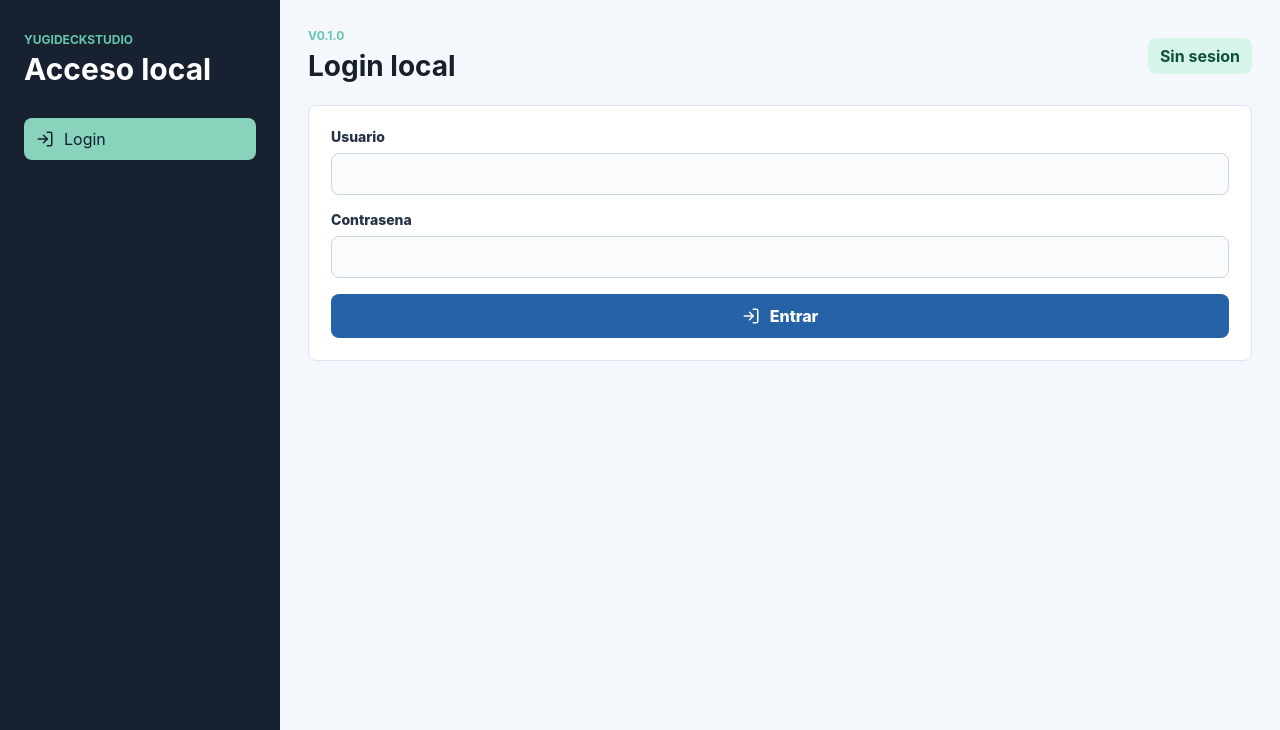
Test case: App › loads the security workspace after login
In the field labelled "Usuario": (780, 174) [331,153,1229,195], type "root"
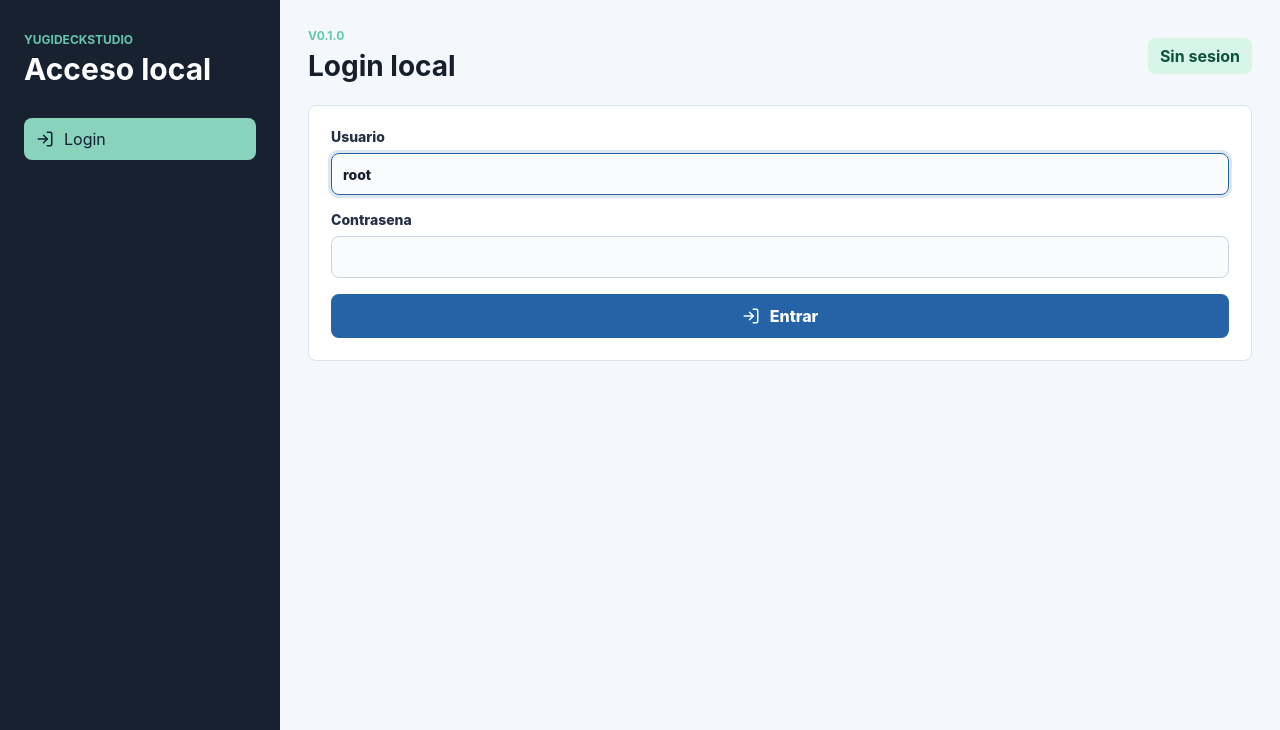
In the password field labelled "Contrasena": (780, 257) [331,236,1229,278], type "ChangedPassword123!"
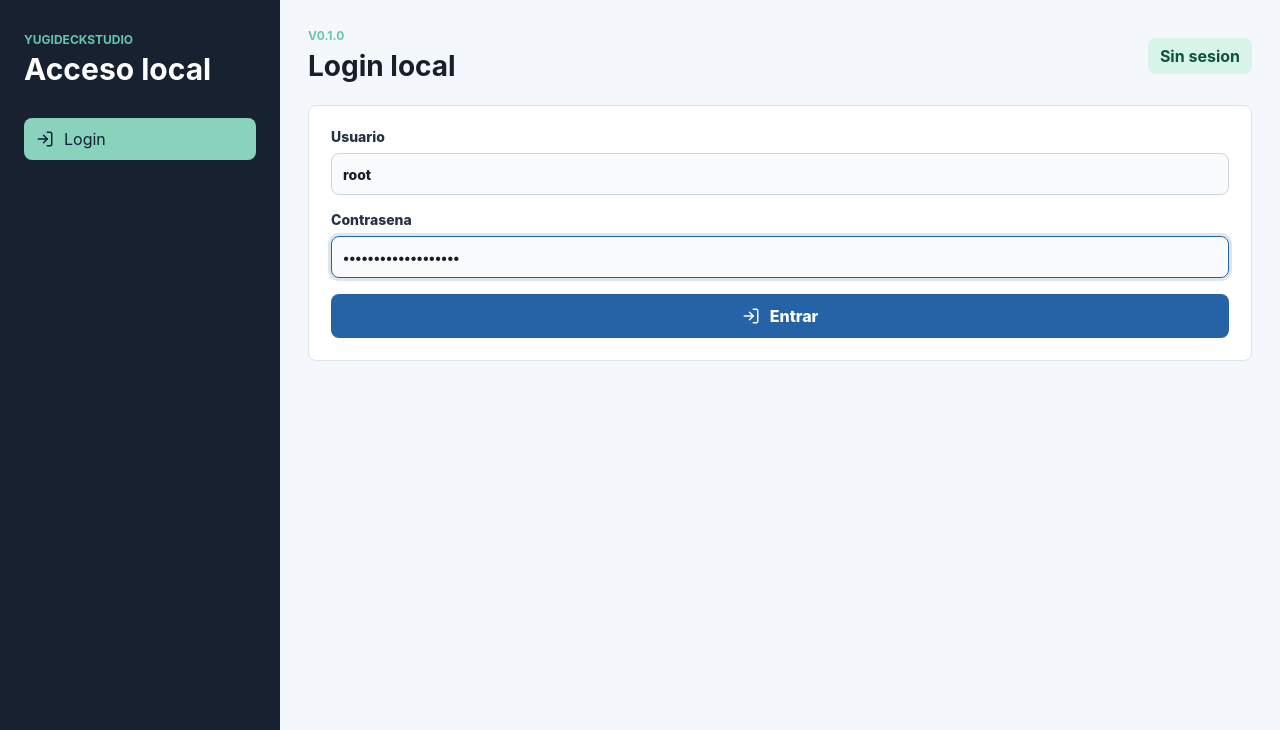
Click the button "Entrar": (780, 316) [331,294,1229,338]
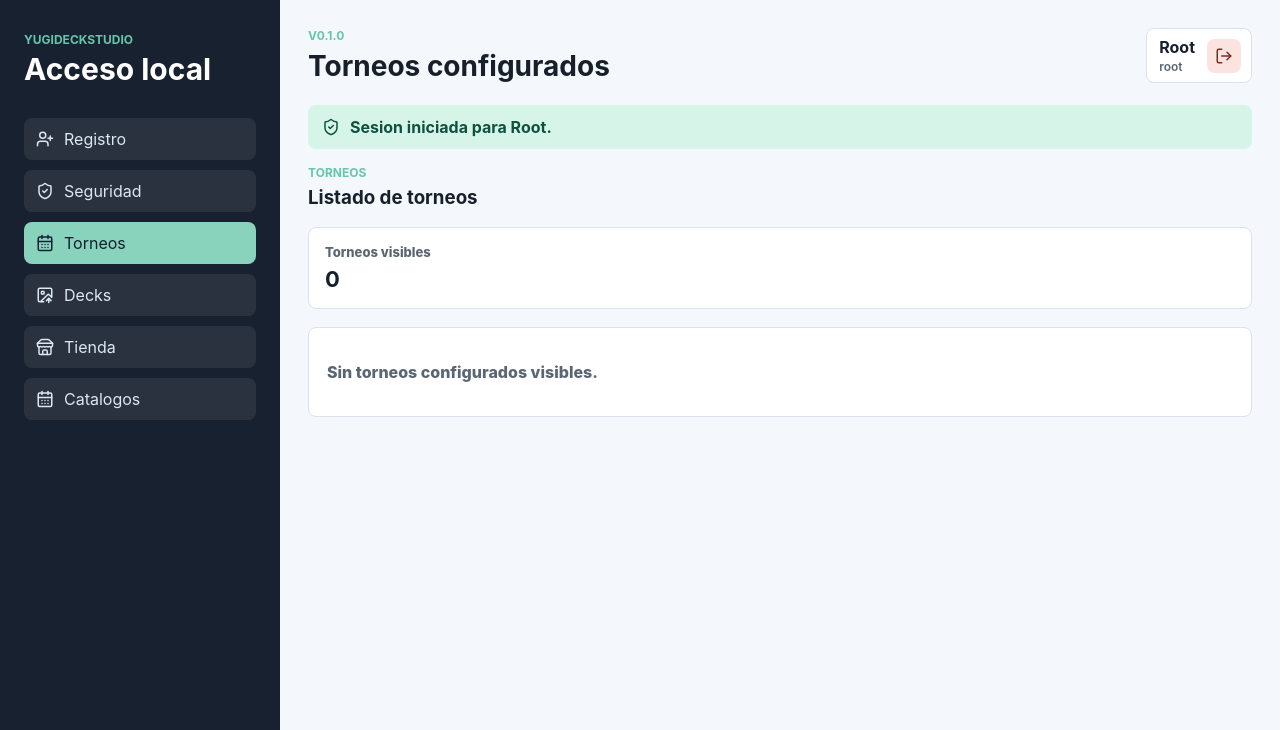
Click the button "Seguridad": (140, 191) [24,170,256,212]
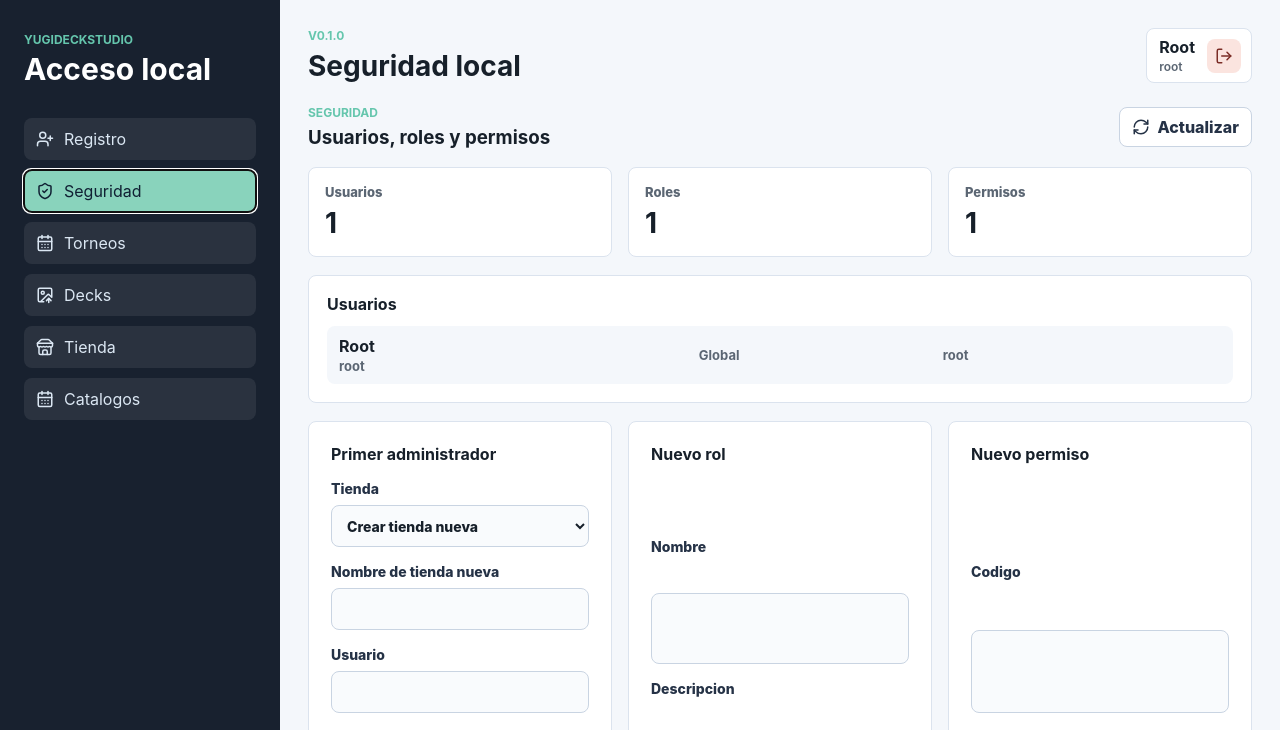
Expected: the heading "Seguridad local" is shown, [308,49,521,83]
Expected: the heading "Usuarios, roles y permisos" is shown, [308,126,550,149]
